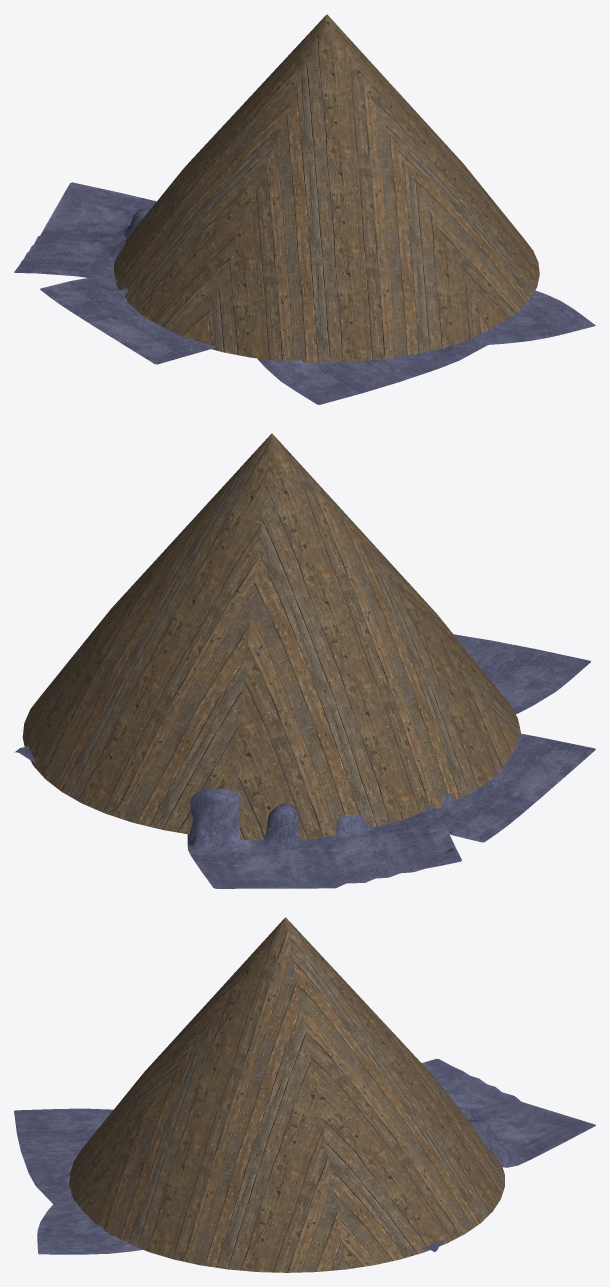
The model's file is castle_inside_scene_lvl_3_things_under_tarpaulin4.fbx.
3 renders of one model, top to bottom at view 1: azimuth 30°, elevation 25°; view 2: azimuth 150°, elevation 25°; view 3: azimuth 270°, elevation 25°, orthographic. The views are drawn at different scales.
Parts seen in each view (by area): view 1: roof, Grid.006, Grid.004, Grid.005, Grid; view 2: roof, Grid.006, Grid.005, Grid.004; view 3: roof, Grid.006, Grid.004, Grid.
Boxes of the visible parts, x1=… form: roof: x1=113, y1=14, x2=539, y2=362; Grid.006: x1=14, y1=182, x2=156, y2=282; Grid.004: x1=257, y1=343, x2=487, y2=404; Grid.005: x1=40, y1=278, x2=217, y2=364; Grid: x1=459, y1=290, x2=595, y2=345; roof: x1=22, y1=433, x2=520, y2=840; Grid.006: x1=187, y1=788, x2=461, y2=888; Grid.005: x1=436, y1=733, x2=595, y2=842; Grid.004: x1=454, y1=634, x2=590, y2=714; roof: x1=69, y1=917, x2=504, y2=1272; Grid.006: x1=422, y1=1058, x2=595, y2=1167; Grid.004: x1=14, y1=1108, x2=113, y2=1204; Grid: x1=37, y1=1194, x2=142, y2=1254.
Bounding box in the file's own units: 511 × 325 × 598.
